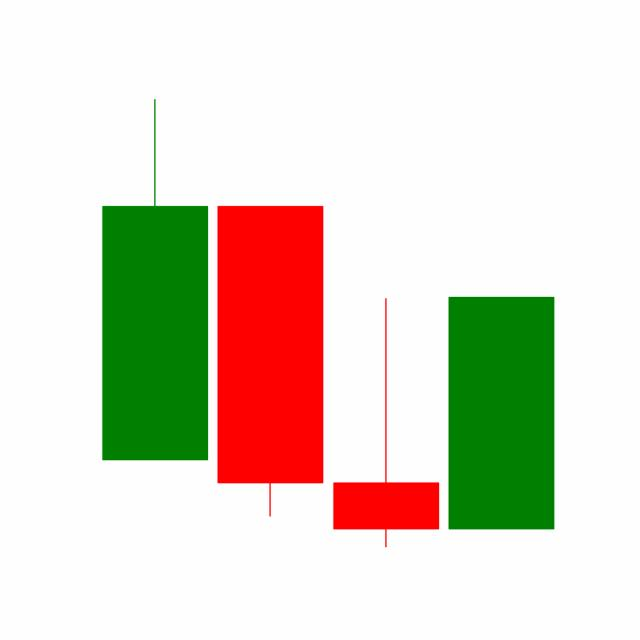Marubozu: (443, 294, 559, 532)
